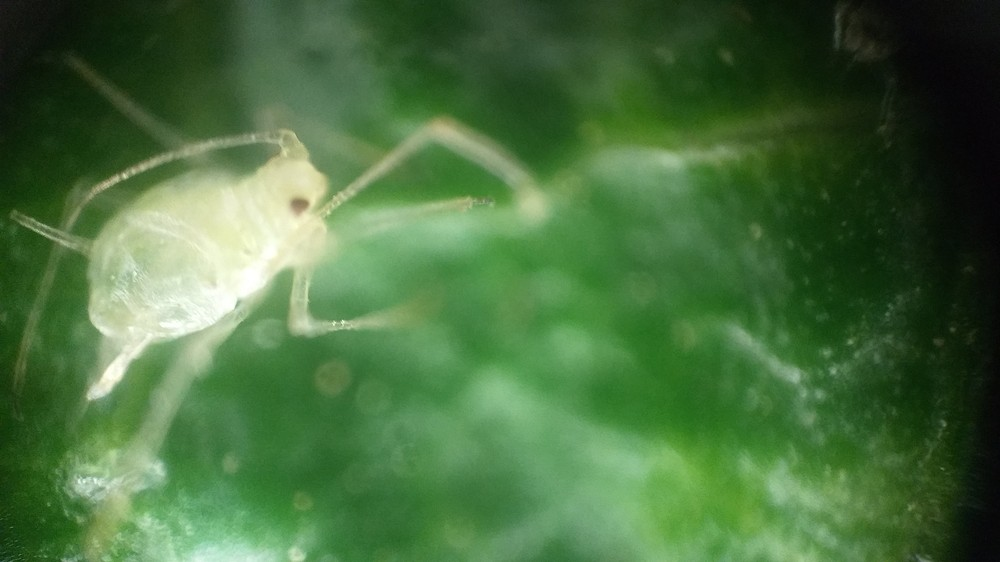Pulgon: (22, 41, 571, 452)
